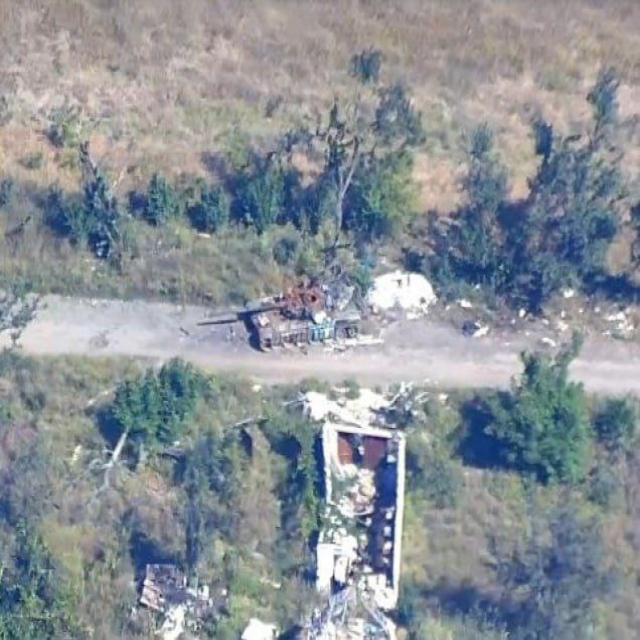MBT: (205, 283, 362, 353)
